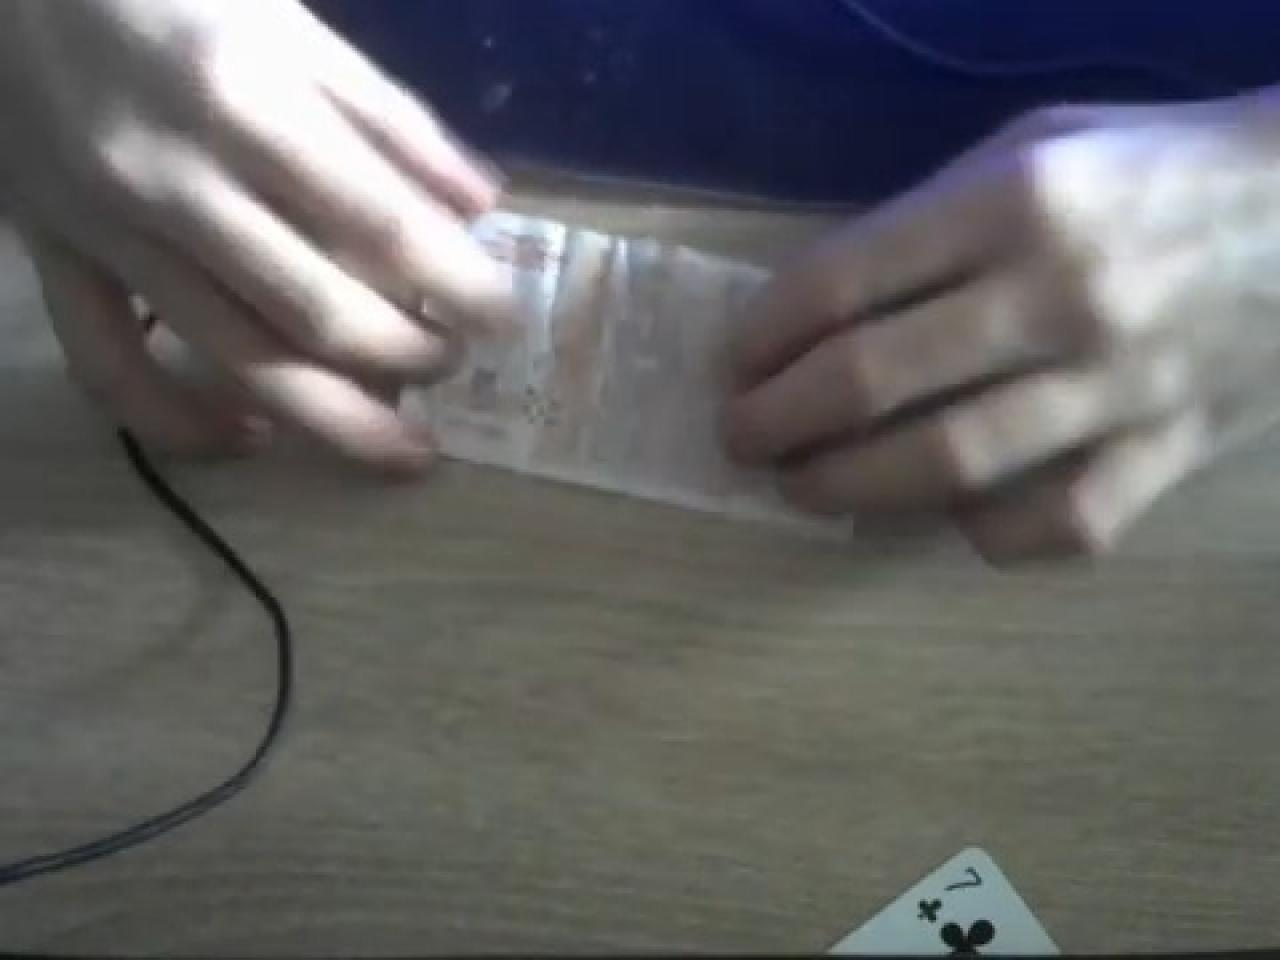5leva: (434, 211, 787, 522)
